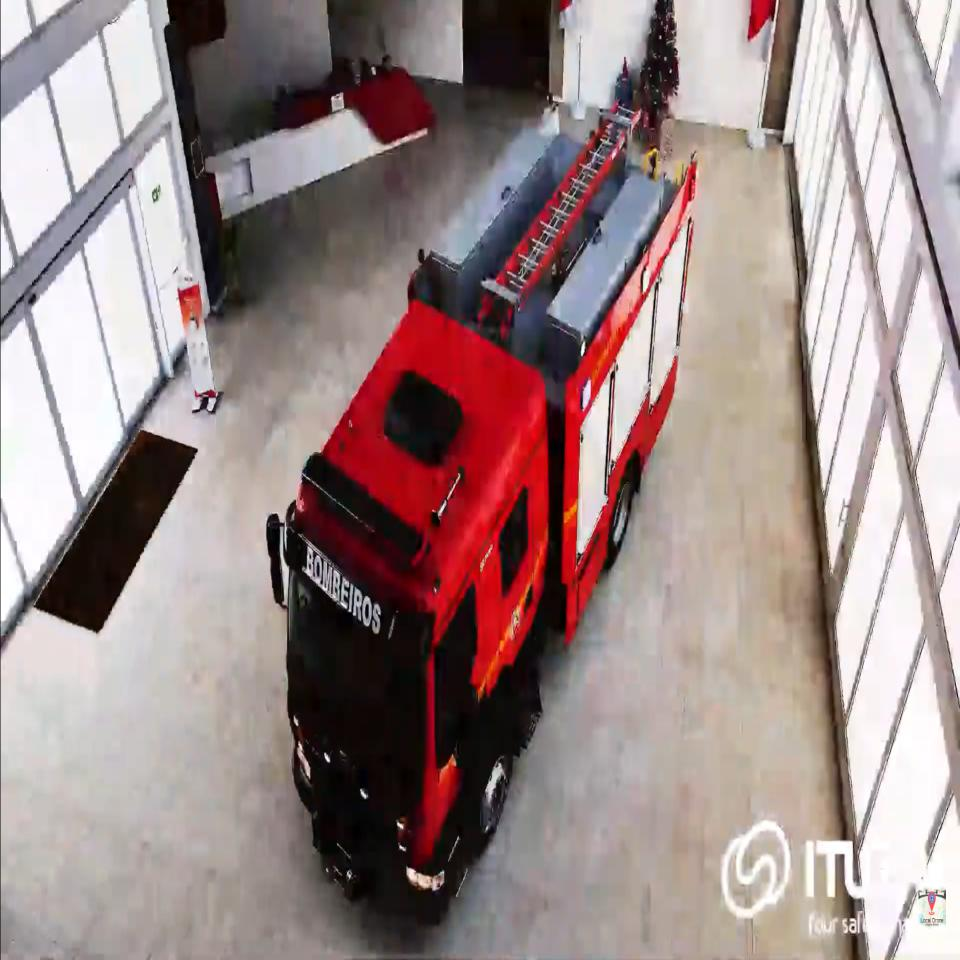viatura: (267, 110, 703, 926)
